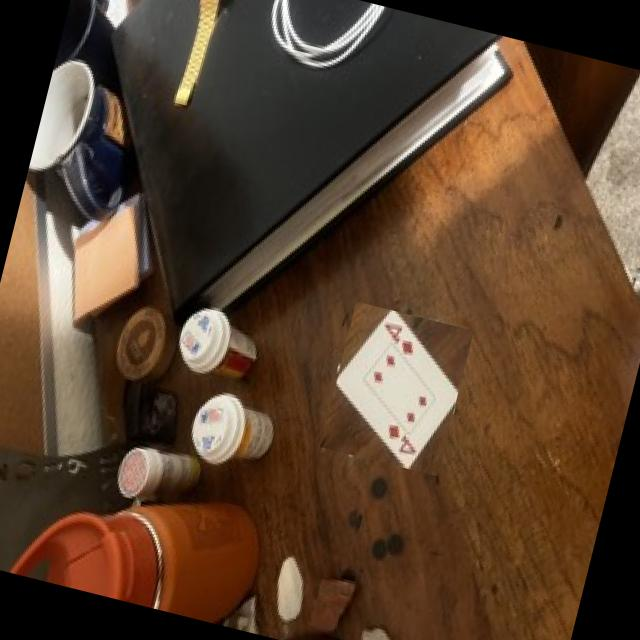4 of diamonds: (335, 310, 457, 468)
